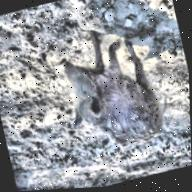boar: (46, 17, 169, 169)
